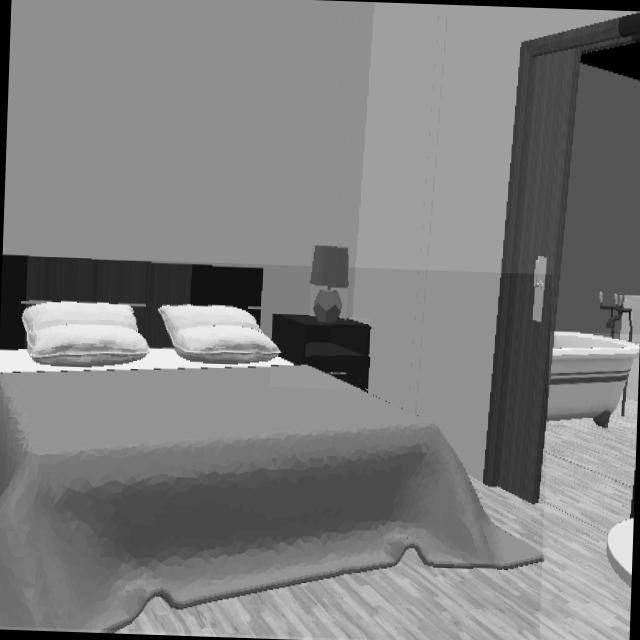bathtube: (547, 332, 639, 426)
bed: (0, 255, 542, 630)
lamp: (310, 245, 348, 322)
nighttable: (272, 316, 368, 389)
